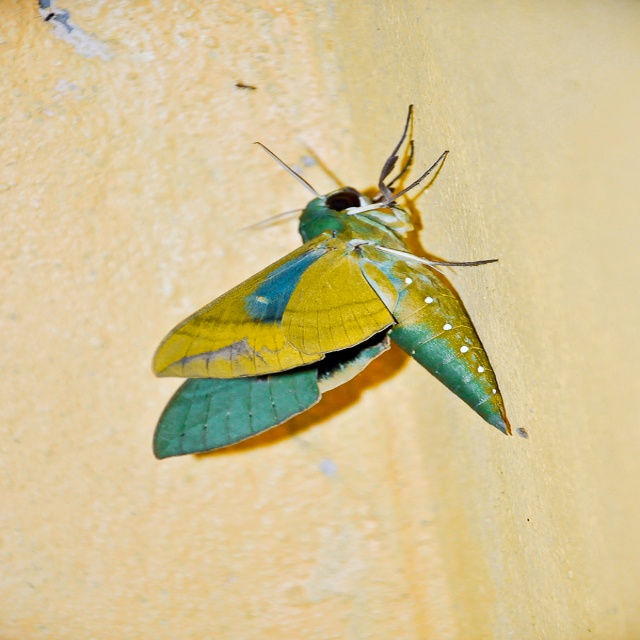Moths and butterflies: (144, 101, 516, 463)
